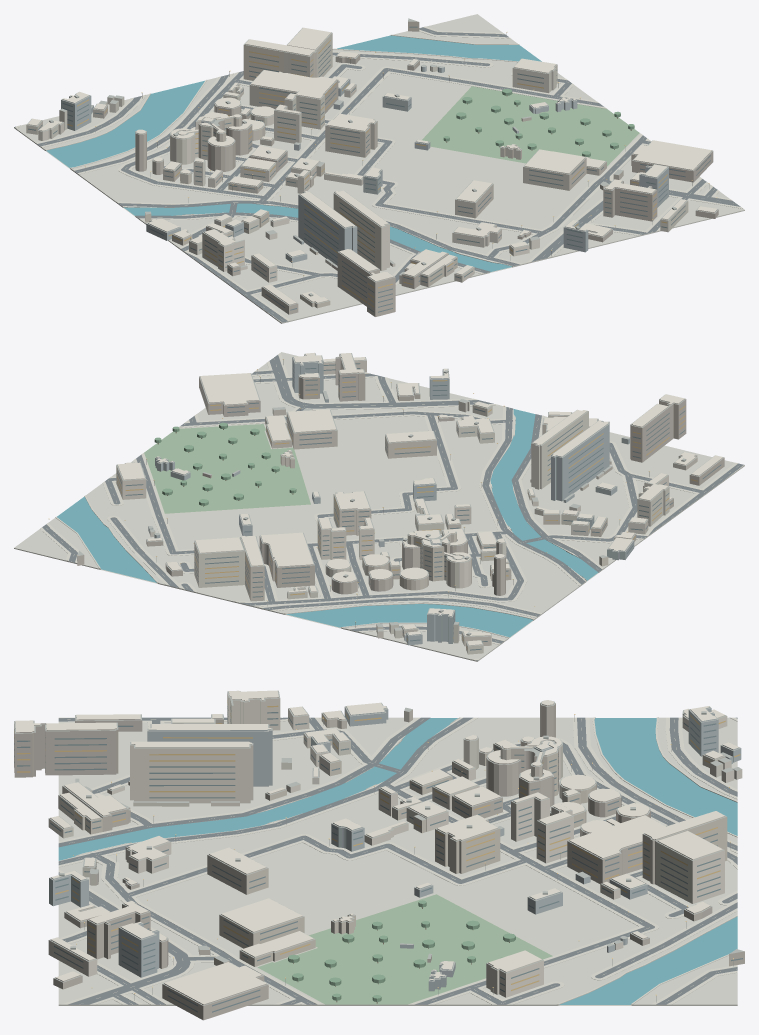
3 views of the same model, one above another, from view 1: azimuth 30°, elevation 25°; view 2: azimuth 150°, elevation 25°; view 3: azimuth 270°, elevation 25° (orthographic). The views are drawn at different scales.
Visible parts, largest first — view 1: city; view 2: city; view 3: city.
Boxes of the visible parts, <box> form: city: <box>14,14,744,323</box>; city: <box>14,352,744,661</box>; city: <box>14,690,744,1020</box>.
Bounding box in the file's own units: 536 × 46.45 × 538.
